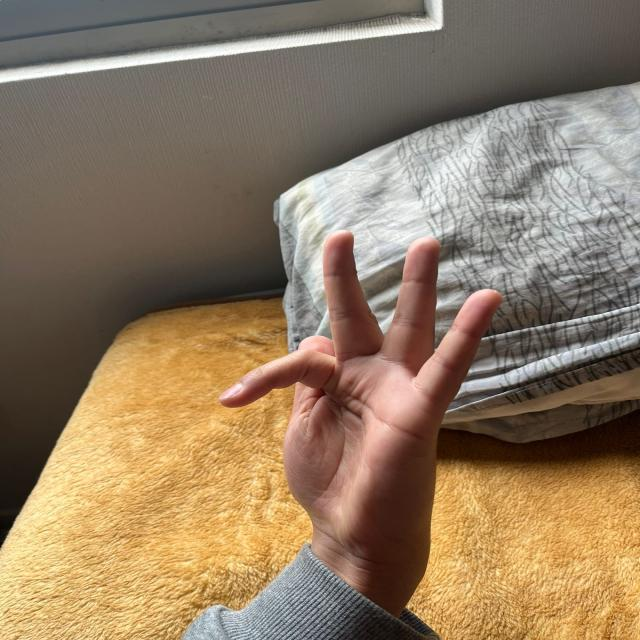F: (218, 226, 514, 525)
